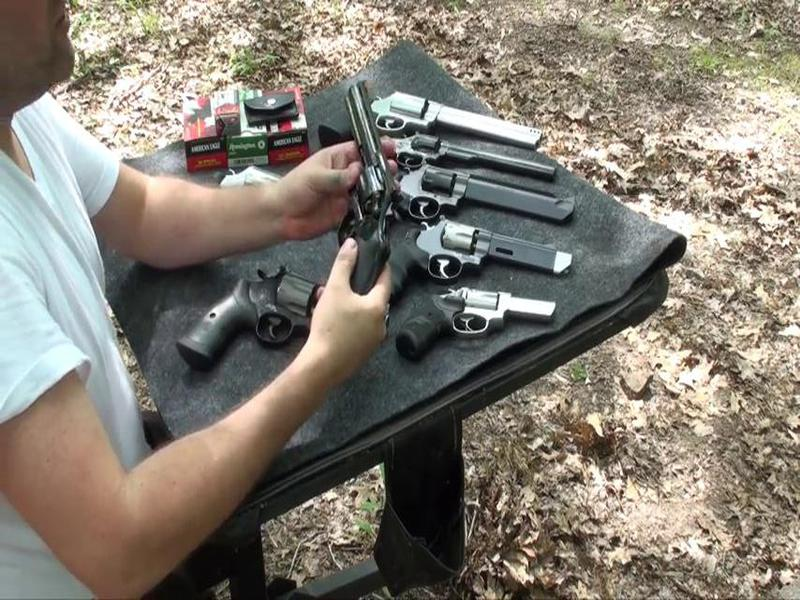Revolver: (312, 68, 430, 336)
